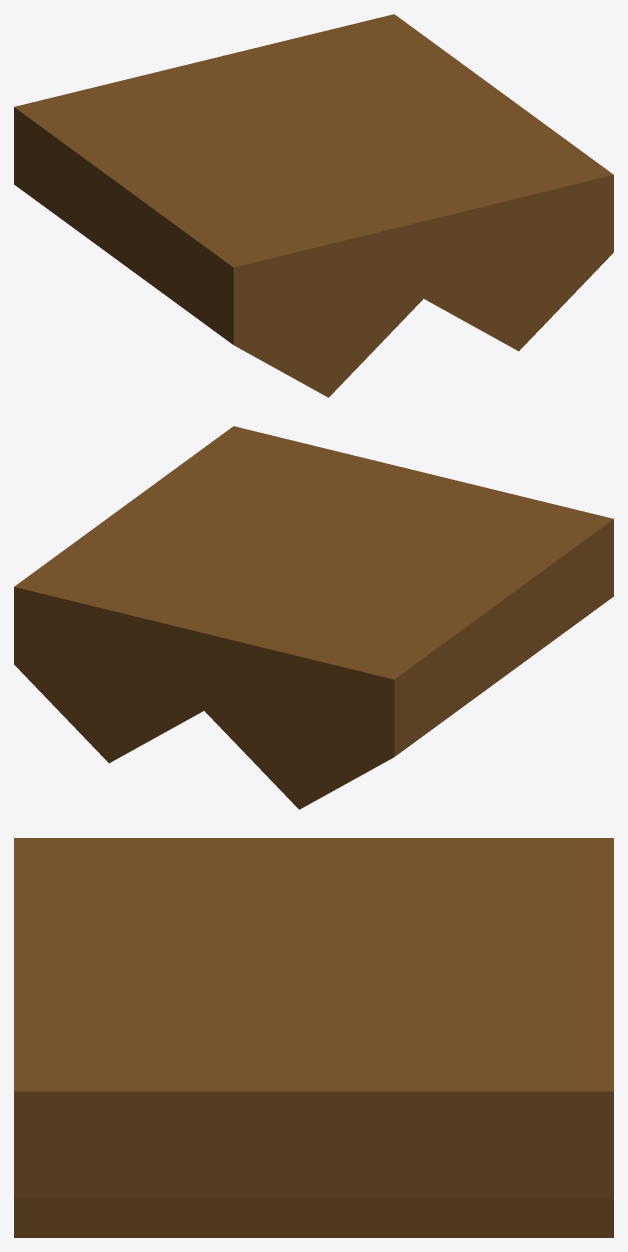
3 renders of one model, top to bottom at view 1: azimuth 30°, elevation 25°; view 2: azimuth 150°, elevation 25°; view 3: azimuth 270°, elevation 25°, orthographic. The views are drawn at different scales.
Visible parts, largest first — view 1: Cube; view 2: Cube; view 3: Cube.
Part boxes in pixels (left/top/right/bottom): Cube: left=14, top=14, right=613, bottom=397; Cube: left=14, top=426, right=613, bottom=809; Cube: left=14, top=838, right=613, bottom=1237.
Size of the model in its own units: 2 by 0.7707 by 2.
